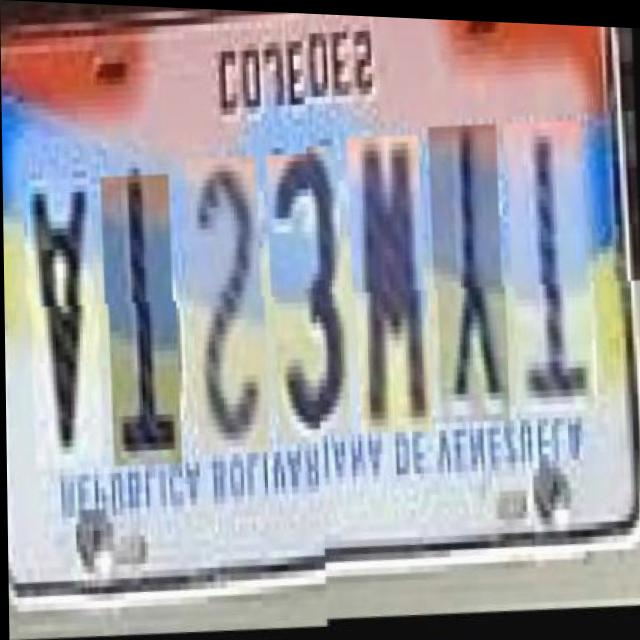3: (271, 146, 351, 443)
a: (27, 169, 104, 466)
s: (189, 150, 269, 453)
t: (511, 124, 594, 428), (105, 166, 182, 463)
w: (353, 136, 433, 440)
y: (433, 127, 509, 431)
